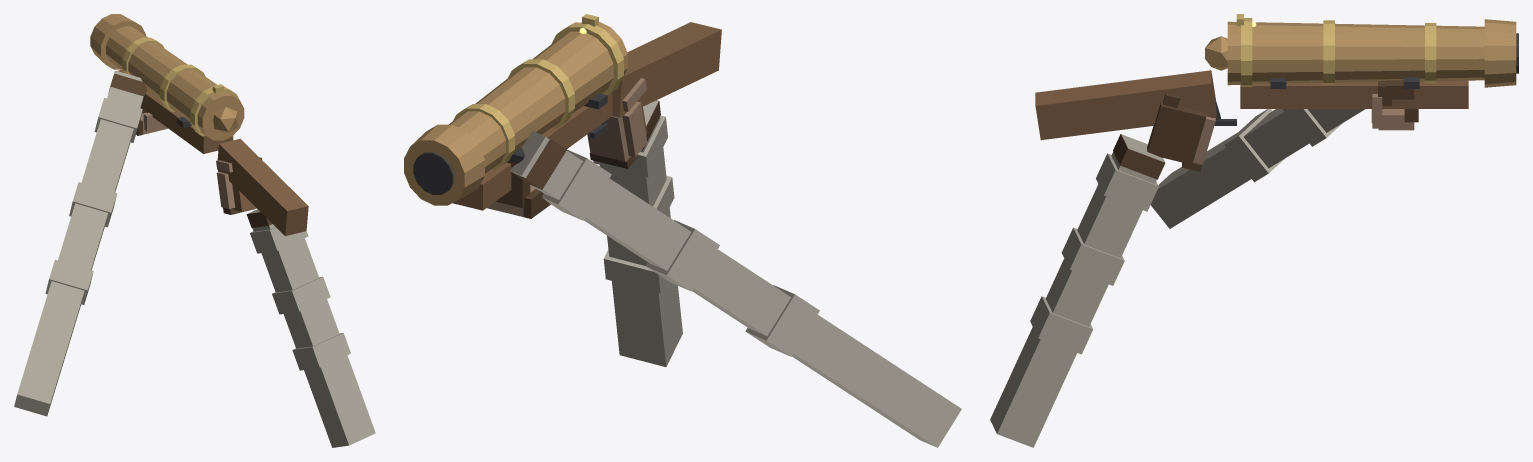
File: cannon.glb
The picture shows the model from 3 angles, left to right: view 1: azimuth 30°, elevation 25°; view 2: azimuth 150°, elevation 25°; view 3: azimuth 270°, elevation 25°; orthographic projection. The views are drawn at different scales.
Visible parts, largest first — view 1: CL_Forearm, HR_Forearm, H_Barrel, H_Tiller, H_Bed, HR_Wrap1, HR_Wrap2, H_Swell, CL_Wrap2, CL_Wrap1, CL_Wrap0, HR_Wrap0 (+6 smaller); view 2: CL_Forearm, H_Barrel, HR_Forearm, H_Tiller, H_Swell, H_Bed, CL_Wrap1, CL_Wrap2, CL_Wrap0, HR_Wrap2, H_Bore, HR_Fingers (+7 smaller); view 3: H_Barrel, HR_Forearm, H_Tiller, CL_Forearm, H_Bed, HR_Palm, H_Swell, HR_Wrap1, HR_Wrap0, HR_Wrap2, CL_Wrap2, HR_Bracelet (+7 smaller).
Part boxes in pixels (box(x1,y1,x2,y2)): CL_Forearm: box(14, 70, 143, 416); HR_Forearm: box(248, 209, 375, 447); H_Barrel: box(106, 26, 244, 140); H_Tiller: box(217, 138, 308, 236); H_Bed: box(114, 70, 233, 153); HR_Wrap1: box(272, 276, 330, 314); HR_Wrap2: box(292, 333, 350, 370); H_Swell: box(90, 14, 145, 69); CL_Wrap2: box(45, 259, 93, 304); CL_Wrap1: box(69, 182, 117, 227); CL_Wrap0: box(94, 97, 142, 142); HR_Wrap0: box(250, 227, 308, 253); CL_Forearm: box(510, 131, 961, 447); H_Barrel: box(449, 22, 627, 173); HR_Forearm: box(599, 100, 682, 366); H_Tiller: box(612, 22, 721, 117); H_Swell: box(404, 124, 484, 205); H_Bed: box(452, 92, 612, 210); CL_Wrap1: box(645, 220, 719, 291); CL_Wrap2: box(745, 285, 819, 356); CL_Wrap0: box(542, 149, 611, 220); HR_Wrap2: box(603, 249, 666, 293); H_Bore: box(413, 152, 453, 194); HR_Fingers: box(587, 116, 629, 161); H_Barrel: box(1227, 21, 1484, 85); HR_Forearm: box(990, 134, 1164, 447); H_Tiller: box(1035, 70, 1216, 140); CL_Forearm: box(1150, 109, 1364, 228); H_Bed: box(1240, 80, 1468, 108); HR_Palm: box(1147, 102, 1206, 164); H_Swell: box(1484, 19, 1516, 87); HR_Wrap1: box(1061, 227, 1124, 285); HR_Wrap0: box(1096, 153, 1158, 211); HR_Wrap2: box(1030, 296, 1093, 354); CL_Wrap2: box(1224, 109, 1284, 182); HR_Bracelet: box(1113, 134, 1165, 179).
Bounding box in the file's own units: 0.6822 × 0.6911 × 0.8333.
